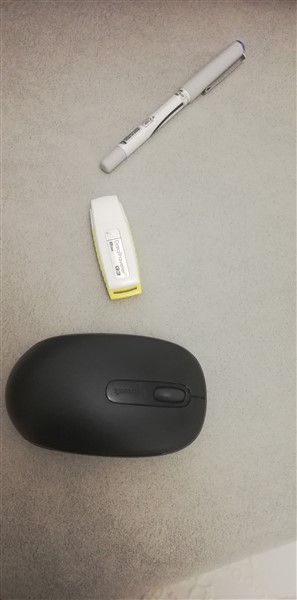flash disk: (88, 194, 151, 302)
mouse: (4, 330, 208, 454)
pilot kalem: (94, 37, 249, 178)
